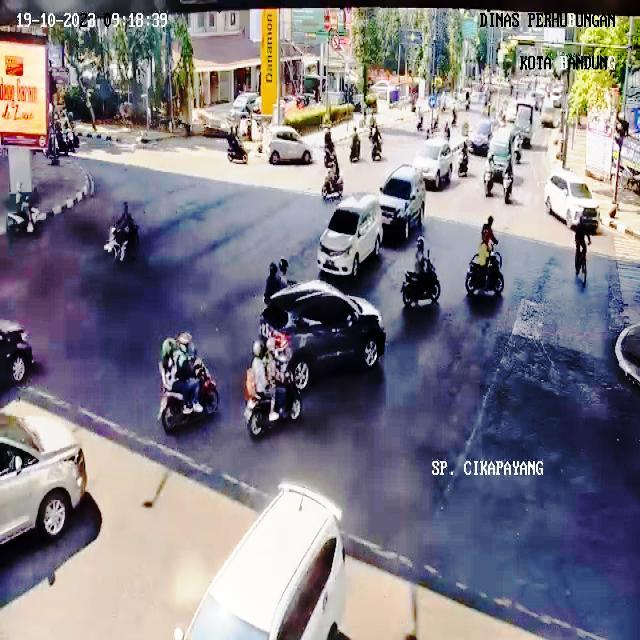car: (180, 484, 348, 640), (244, 281, 384, 436), (260, 280, 385, 389), (0, 438, 86, 543), (318, 192, 382, 276), (544, 169, 599, 232), (379, 164, 425, 238), (484, 126, 515, 202), (0, 319, 32, 383), (412, 139, 452, 189), (264, 126, 312, 164)
motorcycle: (465, 251, 504, 295), (244, 384, 275, 438), (274, 384, 302, 422)
motorcyclist: (158, 331, 219, 433), (401, 236, 441, 307), (104, 201, 139, 262), (264, 258, 289, 303)
